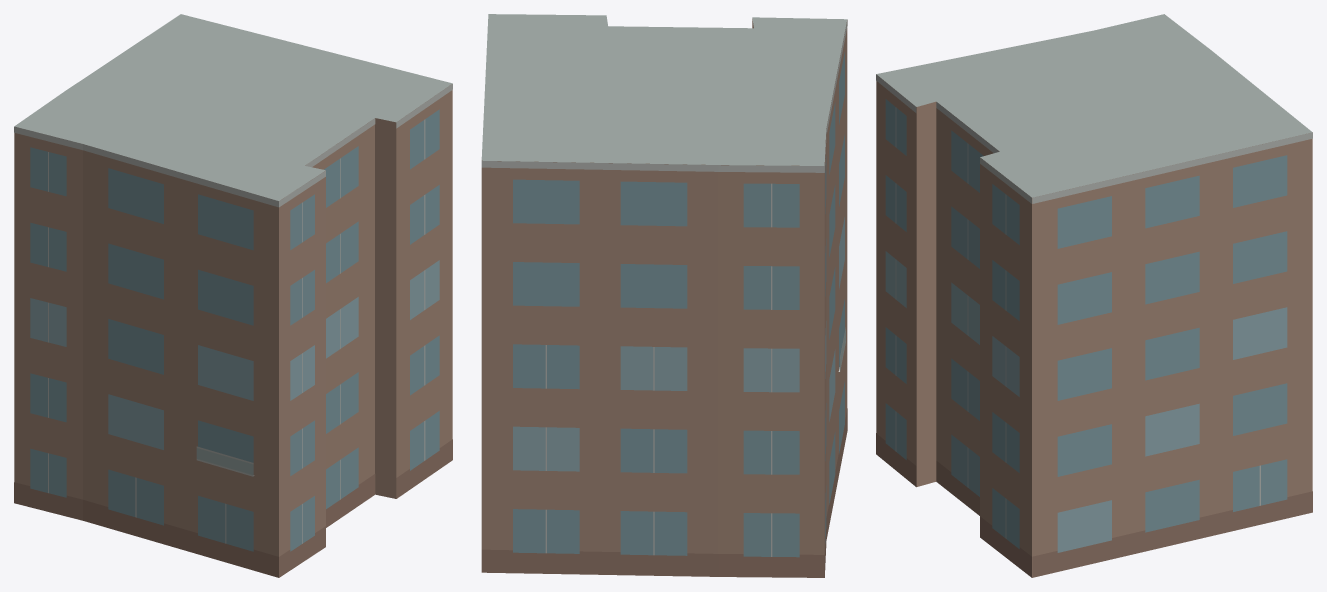
Rendered from survey-upis-32754039.glb.
The picture shows the model from 3 angles, left to right: view 1: azimuth 30°, elevation 25°; view 2: azimuth 150°, elevation 25°; view 3: azimuth 270°, elevation 25°; orthographic projection. The views are drawn at different scales.
Visible parts, largest first — view 1: survey-upis-32754039.tmp; view 2: survey-upis-32754039.tmp; view 3: survey-upis-32754039.tmp.
Part boxes in pixels (x1,y1,x2,y2): survey-upis-32754039.tmp: (14, 14, 452, 577); survey-upis-32754039.tmp: (481, 14, 847, 577); survey-upis-32754039.tmp: (876, 14, 1312, 577).
Size of the model in its own units: 15.14 by 14.6 by 15.21.
